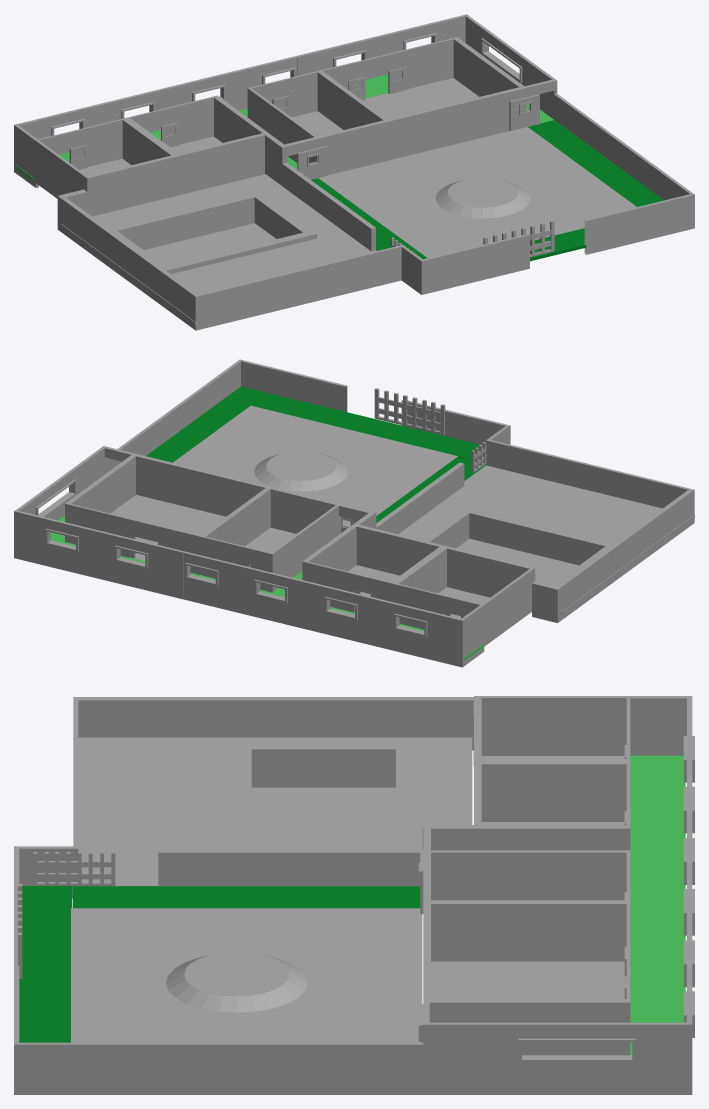
The model's file is BlockedSchoolFBX.fbx.
The picture shows the model from 3 angles, top to bottom: view 1: azimuth 30°, elevation 25°; view 2: azimuth 150°, elevation 25°; view 3: azimuth 270°, elevation 25°; orthographic projection. The views are drawn at different scales.
Visible parts, largest first — view 1: pCube5, pCube2, pCube3, Room3, Room1, Room, Room2, pCube1, pDisc1, pCube15, pCube13, pCube9 (+8 smaller); view 2: pCube5, pCube3, pCube2, Room3, Room1, Room2, Room, pCube1, pCube13, pCube7, pCube9, pCube14 (+6 smaller); view 3: pCube3, pCube5, pCube2, pCube1, Room3, Room1, pCube15, Room2, Room, pDisc1, pCube6, pCube28 (+6 smaller).
Boxes of the visible parts, x1,y1,x2,y2 form: pCube5: (57,94,694,330); pCube2: (318,127,636,257); pCube3: (61,174,376,324); Room3: (319,37,526,160); Room1: (126,95,375,251); Room: (34,118,178,216); Room2: (247,70,390,175); pCube1: (15,74,663,261); pDisc1: (435,177,530,218); pCube15: (465,15,557,119); pCube13: (366,14,468,79); pCube9: (225,56,297,110); pCube5: (106,359,694,622); pCube3: (398,465,694,614); pCube2: (173,405,457,526); Room3: (65,453,267,574); Room1: (302,462,464,612); Room2: (199,486,370,592); Room: (392,545,535,646); pCube1: (51,386,486,660); pCube13: (14,511,115,582); pCube7: (392,602,463,667); pCube9: (183,551,254,616); pCube14: (113,534,184,599); pCube3: (74,737,472,886); pCube5: (14,697,473,1094); pCube2: (71,908,422,1042); pCube1: (19,755,685,1055); Room3: (423,902,630,1055); Room1: (158,762,630,885); pCube15: (423,1002,691,1094); Room2: (423,828,630,902); Room: (474,696,630,762); pDisc1: (166,952,307,1012); pCube6: (626,696,691,755); pCube28: (33,852,115,885).
Bounding box in the file's own units: 41.11 × 4.88 × 33.86.
